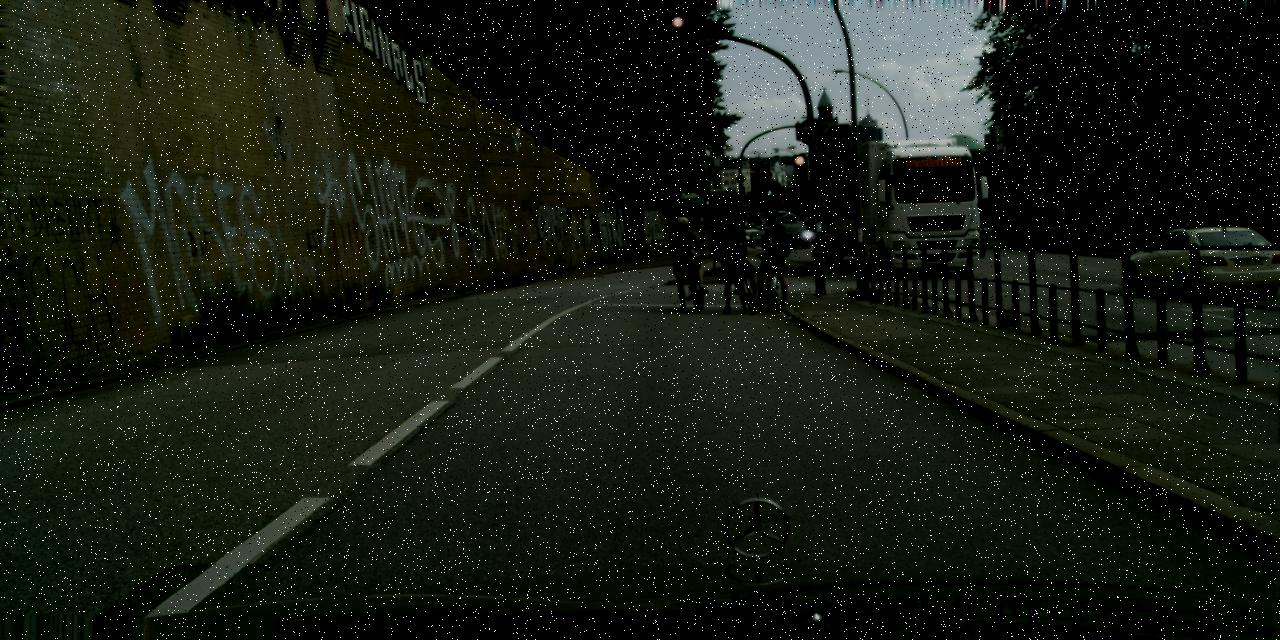ped: (714, 212, 754, 308), (751, 212, 788, 302), (671, 215, 705, 300), (1036, 201, 1052, 241), (1048, 202, 1063, 242), (799, 198, 812, 207), (728, 220, 735, 236), (781, 198, 790, 204), (793, 199, 796, 203), (716, 205, 718, 209), (773, 199, 775, 203), (756, 200, 758, 204), (748, 201, 749, 206), (720, 203, 721, 208), (750, 200, 751, 204), (762, 200, 762, 204), (778, 198, 778, 203), (759, 200, 759, 204)
